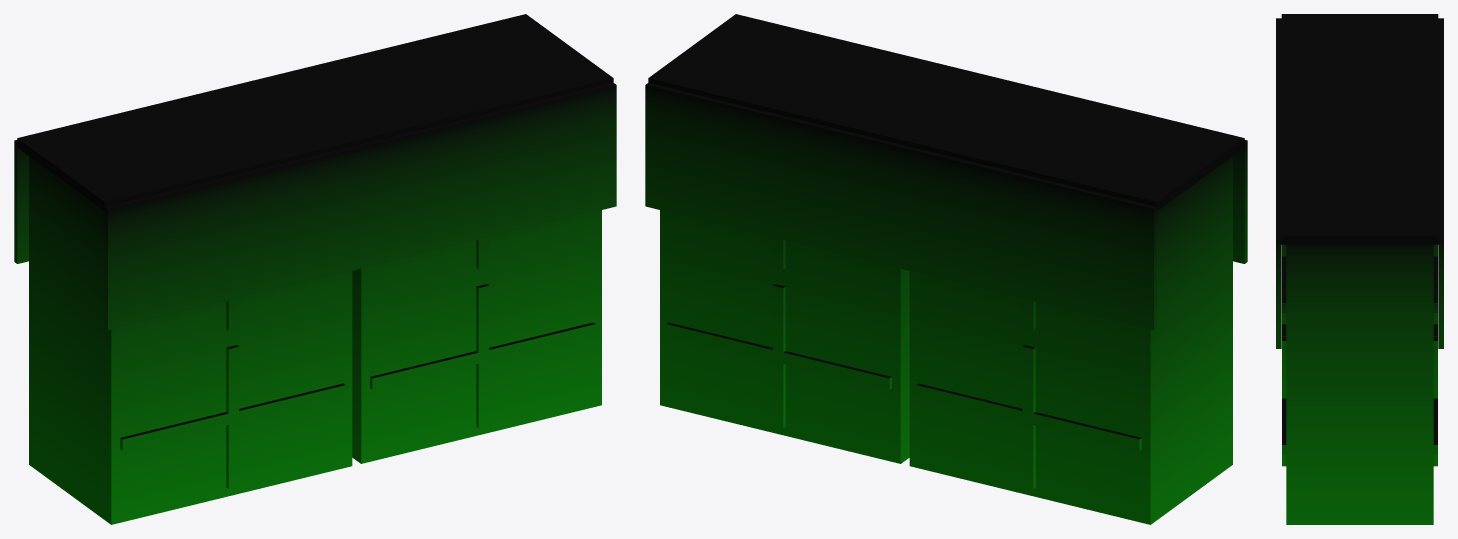
Rendered from crateswithtarp.glb.
3 renders of one model, left to right at view 1: azimuth 30°, elevation 25°; view 2: azimuth 150°, elevation 25°; view 3: azimuth 270°, elevation 25°, orthographic. The views are drawn at different scales.
Visible parts, largest first — view 1: lod0; view 2: lod0; view 3: lod0.
Boxes of the visible parts, x1,y1,x2,y2 form: lod0: (14, 14, 616, 524); lod0: (645, 14, 1247, 524); lod0: (1276, 14, 1443, 524).
Size of what is drawn, in the model's own units: 5.7 by 3.5 by 1.82.
